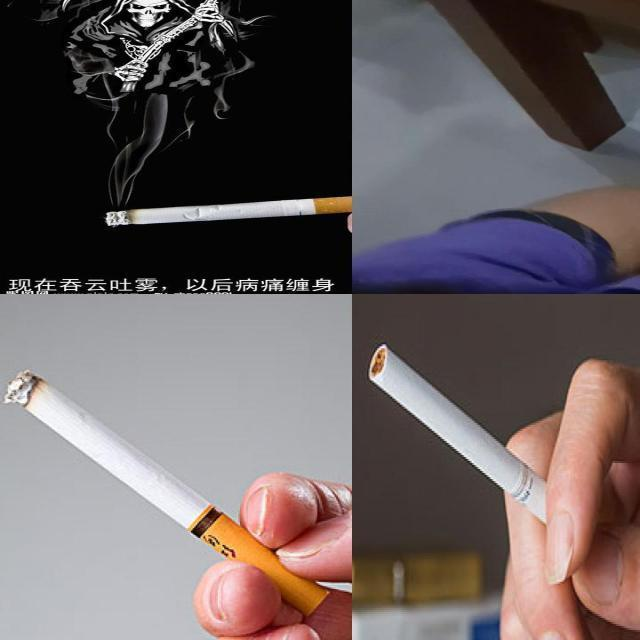Cigarette: (0, 364, 337, 614), (368, 344, 556, 526), (94, 183, 360, 238)
